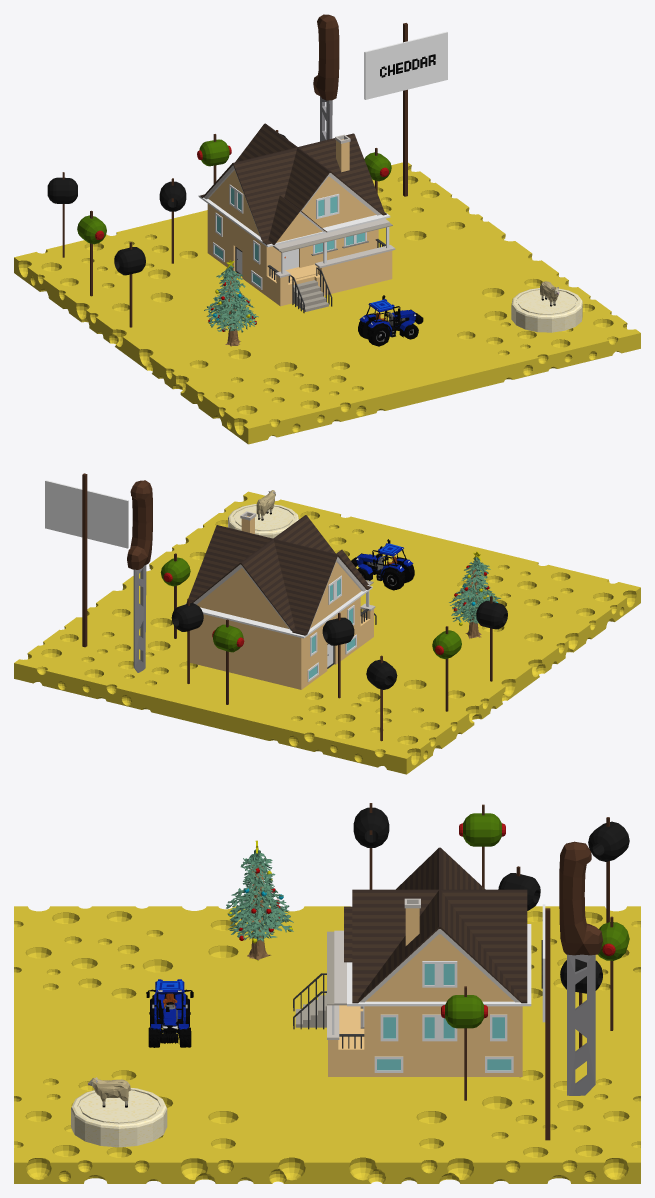
The picture shows the model from 3 angles, top to bottom: view 1: azimuth 30°, elevation 25°; view 2: azimuth 150°, elevation 25°; view 3: azimuth 270°, elevation 25°; orthographic projection. The views are drawn at different scales.
Visible parts, largest first — view 1: Cube.022, Cube.235, Cube.023, Cylinder.016, Cube.024, OBJRANDOM_CHRISTMAS_TREE, VEHICLES_TRACTOR, Sphere.017, Sphere.016, Sphere.020, Sphere.018, Sphere.022 (+1 smaller); view 2: Cube.022, Cube.235, Cube.023, Cube.024, OBJRANDOM_CHRISTMAS_TREE, VEHICLES_TRACTOR, Cylinder.016, Sphere.017, Sphere.020, Sphere.021, Sphere.016, Sphere.018 (+2 smaller); view 3: Cube.022, Cube.235, Cube.024, Cylinder.016, OBJRANDOM_CHRISTMAS_TREE, VEHICLES_TRACTOR, Cube.023, Sphere.019, Sphere.016, Sphere.018, Sphere.017, Sphere.022 (+3 smaller).
Part boxes in pixels (x1,y1,x2,y2): Cube.022: (14,162,640,444); Cube.235: (198,123,395,313); Cube.023: (364,23,447,196); Cylinder.016: (511,288,582,332); Cube.024: (313,14,339,141); OBJRANDOM_CHRISTMAS_TREE: (204,260,258,346); VEHICLES_TRACTOR: (358,295,423,346); Sphere.017: (114,242,145,327); Sphere.016: (47,172,77,257); Sphere.020: (159,178,186,263); Sphere.018: (77,210,106,296); Sphere.022: (197,134,231,183); Cube.022: (14,491,640,774); Cube.235: (185,511,376,689); Cube.023: (45,473,128,647); Cube.024: (127,480,152,672); OBJRANDOM_CHRISTMAS_TREE: (449,551,500,638); VEHICLES_TRACTOR: (351,539,414,590); Cylinder.016: (228,504,298,538); Sphere.017: (476,596,507,681); Sphere.020: (322,612,354,698); Sphere.021: (171,598,203,683); Sphere.016: (366,655,397,741); Sphere.018: (432,626,461,711); Cube.022: (14,906,640,1183); Cube.235: (293,847,531,1076); Cube.024: (559,841,602,1095); Cylinder.016: (71,1087,167,1147); OBJRANDOM_CHRISTMAS_TREE: (226,840,293,961); VEHICLES_TRACTOR: (146,979,193,1047); Cube.023: (541,904,550,1140); Sphere.019: (441,986,487,1100); Sphere.016: (588,817,629,922); Sphere.018: (459,804,505,887); Sphere.017: (353,803,389,889); Sphere.022: (598,916,629,1030).
Bounding box in the file's own units: 3917 × 2159 × 4000.
38 materials, 3 textured.
